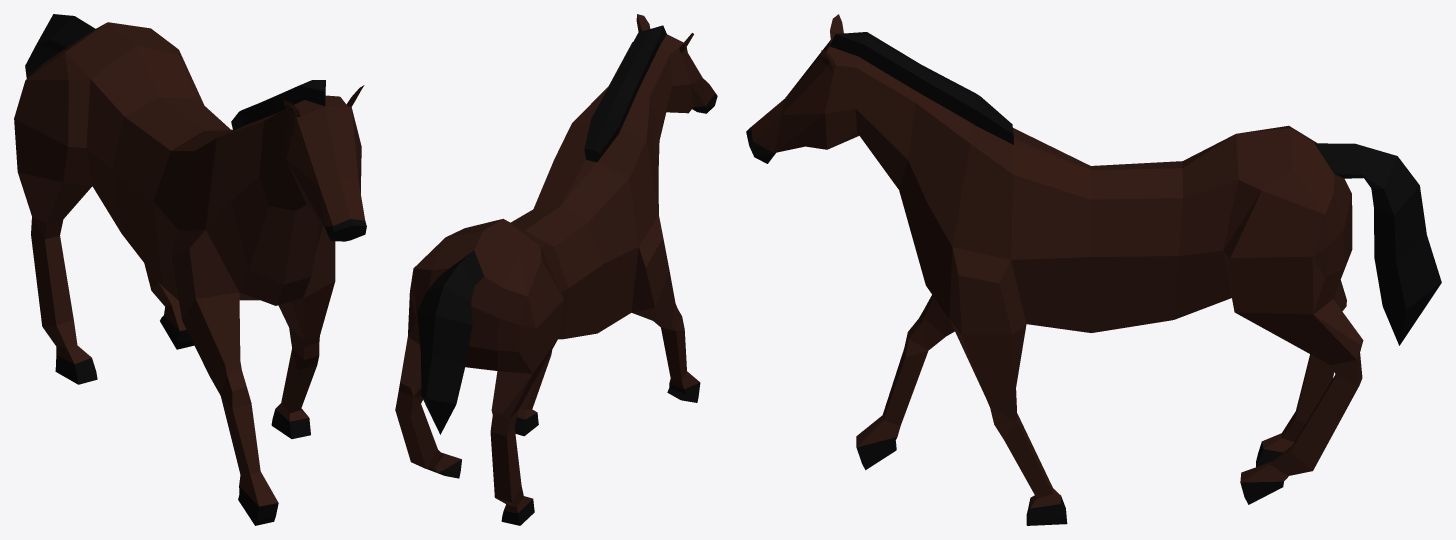
The model's file is Horse_000014.obj.
The picture shows the model from 3 angles, left to right: view 1: azimuth 30°, elevation 25°; view 2: azimuth 150°, elevation 25°; view 3: azimuth 270°, elevation 25°; orthographic projection. The views are drawn at different scales.
Visible parts, largest first — view 1: Horse_Cylinder; view 2: Horse_Cylinder; view 3: Horse_Cylinder.
Part boxes in pixels (x1,y1,x2,y2): Horse_Cylinder: [14, 14, 366, 525]; Horse_Cylinder: [395, 14, 717, 525]; Horse_Cylinder: [746, 14, 1441, 525].
Bounding box in the file's own units: 2.59 × 6.76 × 9.35.
